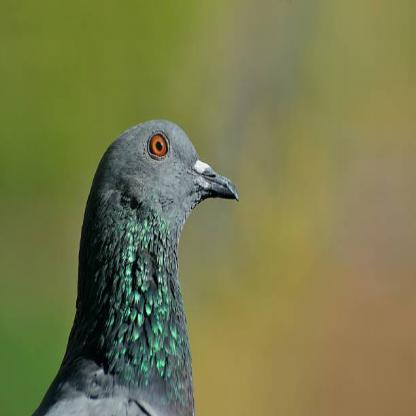Rock Pigeon: (23, 122, 243, 416)
